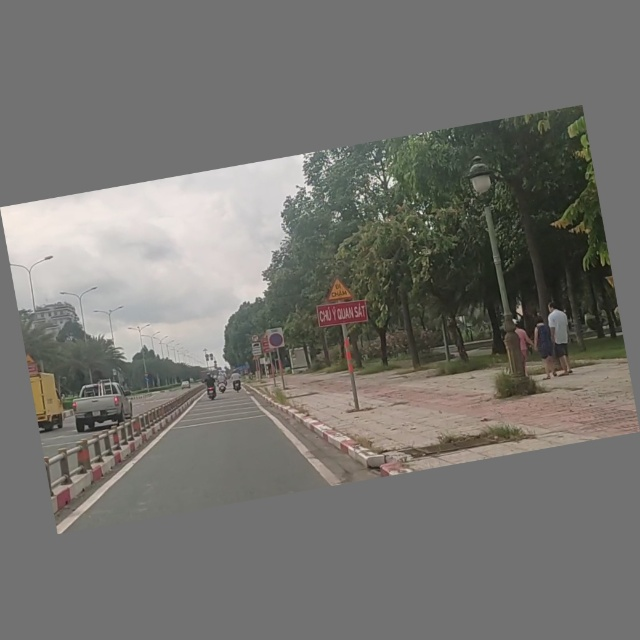P.123b: (250, 335, 260, 344)
P.130: (263, 327, 286, 350)
S.505a*Xe tai: (250, 342, 263, 356)
W.245a: (322, 275, 356, 305)
